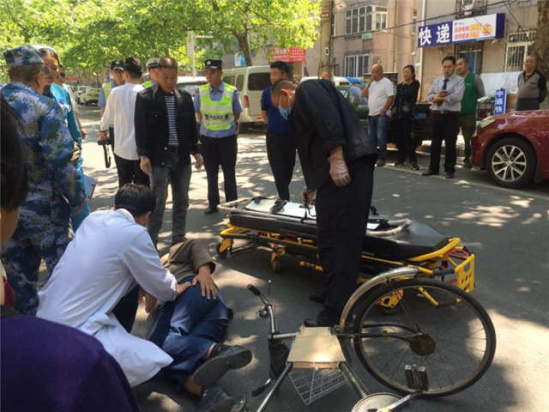10+: (1, 36, 546, 407)
down: (136, 225, 253, 408)
